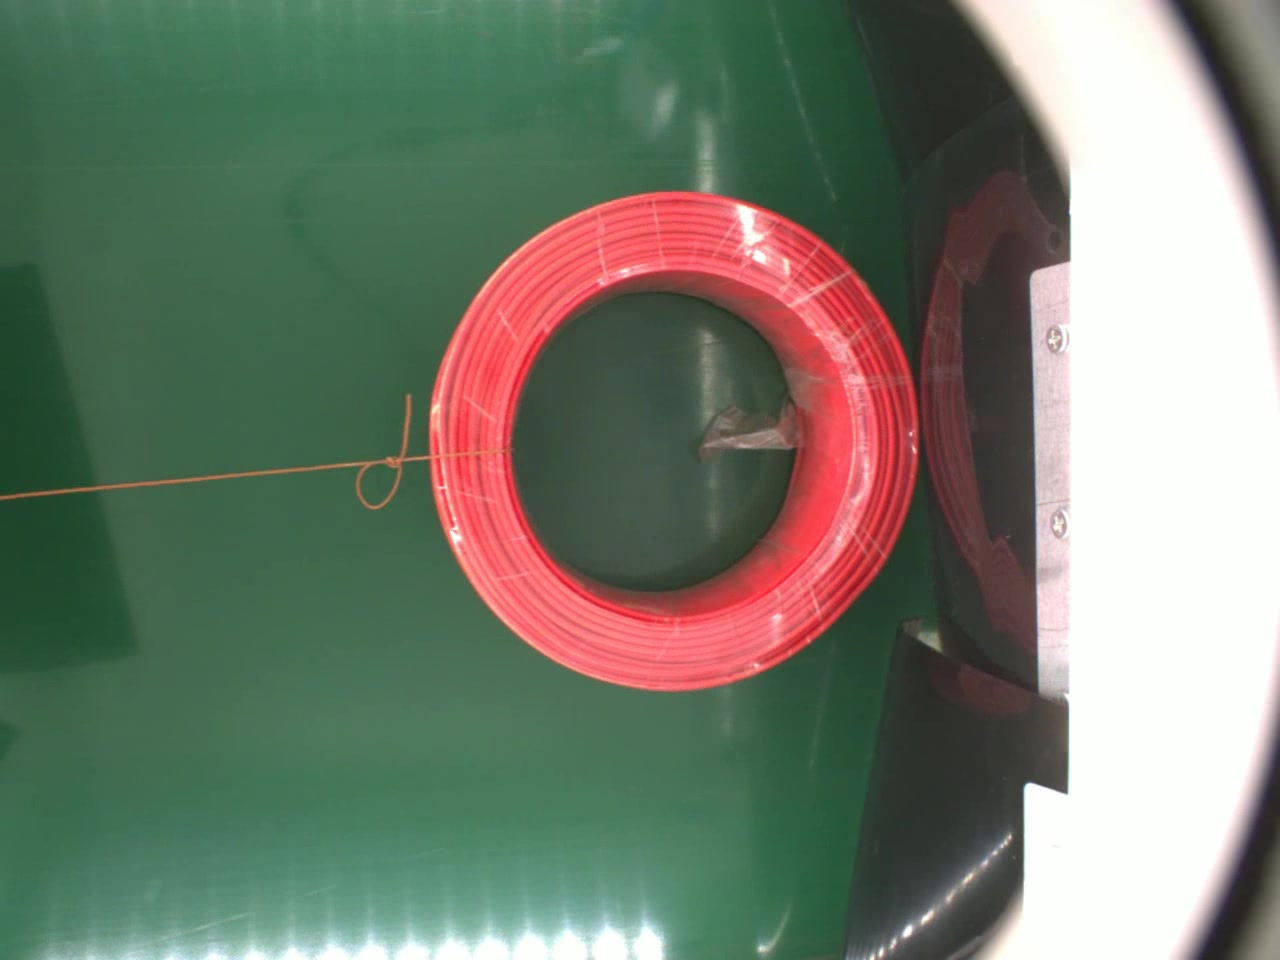red: (426, 183, 920, 703)
